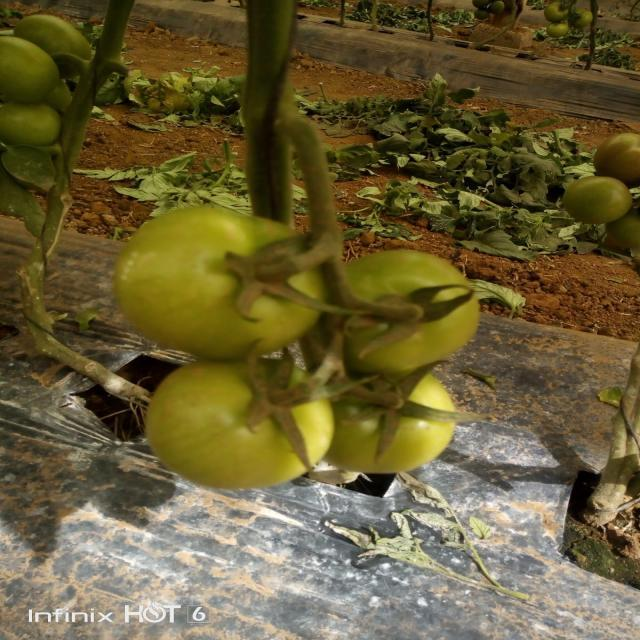Unripe Tomato: (136, 360, 336, 496), (120, 210, 326, 340), (326, 362, 470, 488), (344, 250, 494, 358)
